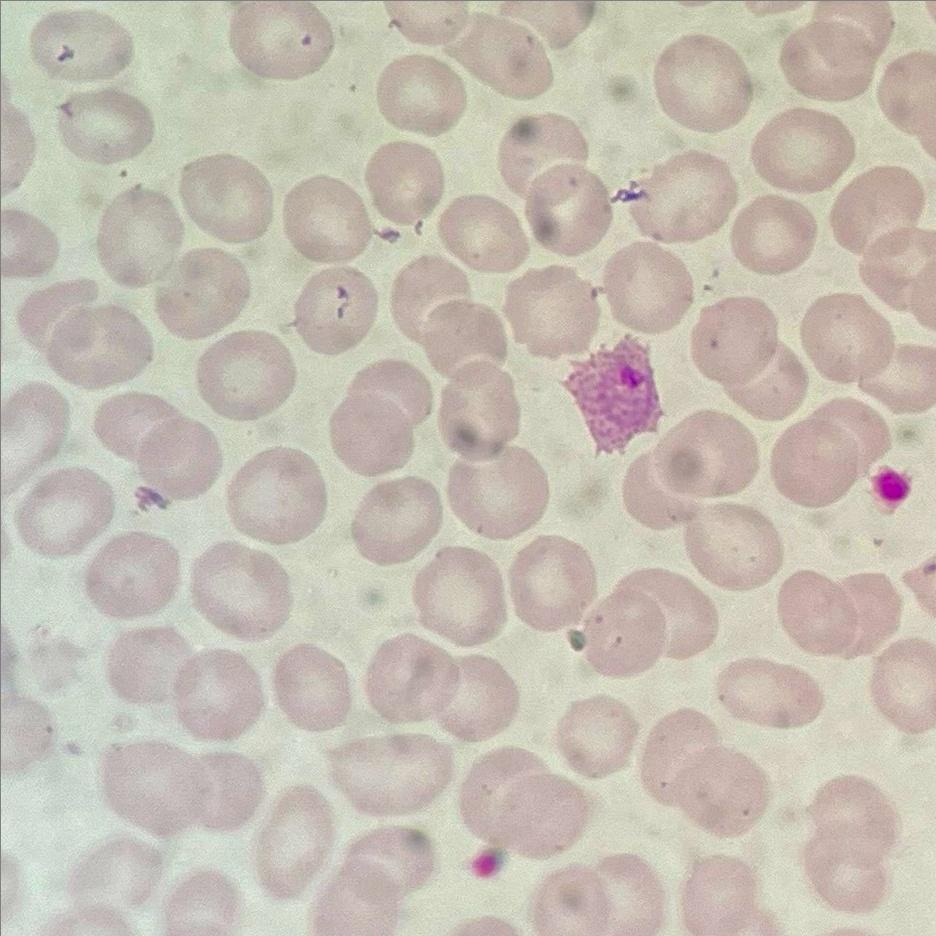Infected: (562, 333, 663, 453)
Uninfected: (105, 738, 258, 838), (771, 398, 891, 511), (311, 825, 432, 930), (328, 361, 435, 478), (639, 409, 758, 512), (466, 759, 587, 856), (327, 731, 453, 815), (533, 853, 662, 935), (654, 744, 767, 837), (578, 579, 682, 679), (800, 804, 896, 911), (781, 9, 891, 102), (43, 299, 154, 390), (224, 448, 327, 546), (192, 541, 293, 640), (627, 152, 735, 244), (652, 33, 754, 130), (408, 547, 505, 648), (194, 329, 297, 421), (171, 647, 269, 743), (251, 790, 337, 899), (504, 262, 601, 358), (446, 450, 547, 542), (83, 530, 184, 622), (445, 14, 551, 100), (12, 467, 111, 558), (798, 292, 894, 385), (130, 411, 226, 504), (364, 633, 462, 724), (506, 536, 596, 635), (178, 153, 275, 244), (96, 187, 186, 285), (253, 560, 353, 648), (828, 164, 924, 255), (153, 248, 250, 338), (777, 569, 875, 657), (685, 504, 784, 591), (750, 108, 851, 193), (691, 296, 784, 388), (350, 476, 445, 566), (434, 364, 522, 460), (521, 165, 613, 256), (281, 173, 375, 262), (637, 708, 727, 800), (606, 237, 695, 330), (104, 622, 198, 710), (229, 1, 333, 80), (387, 252, 473, 345), (497, 113, 591, 197), (290, 265, 379, 353), (415, 297, 511, 377), (553, 691, 640, 778), (57, 87, 154, 165), (30, 8, 131, 82), (678, 854, 772, 933), (364, 140, 449, 227), (374, 55, 465, 136), (94, 390, 188, 468), (716, 657, 819, 728), (437, 193, 527, 274), (435, 654, 517, 742), (272, 644, 353, 731), (729, 195, 815, 275), (14, 279, 100, 358), (867, 638, 936, 729), (621, 448, 693, 532), (859, 341, 935, 414), (164, 870, 245, 935)
